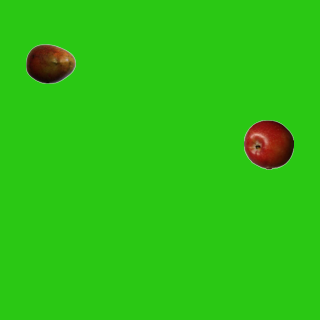Apple Braeburn: (243, 119, 293, 169)
Mango Red: (25, 38, 75, 88)
